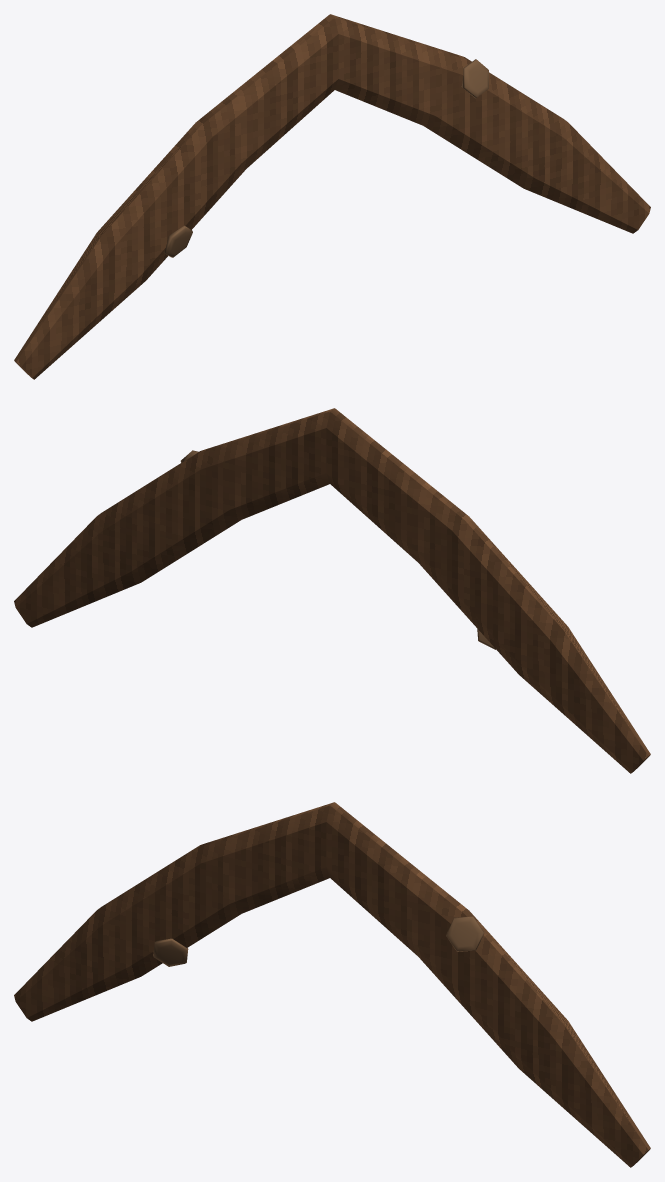
Rendered from boomerang.lod2.glb.
3 views of the same model, one above another, from view 1: azimuth 30°, elevation 25°; view 2: azimuth 150°, elevation 25°; view 3: azimuth 330°, elevation 25° (orthographic).
Visible parts, largest first — view 1: wood / oiled hardwood, drawbore peg; view 2: wood / oiled hardwood; view 3: wood / oiled hardwood, drawbore peg.
Part boxes in pixels (<box>): wood / oiled hardwood: <box>14,14,650,379</box>; drawbore peg: <box>163,59,488,257</box>; wood / oiled hardwood: <box>14,408,650,773</box>; wood / oiled hardwood: <box>14,802,650,1167</box>; drawbore peg: <box>153,916,484,966</box>.
Size of the model in its own units: 0.5771 by 0.2522 by 0.0254.
Materials: 2 (1 with a texture image).
